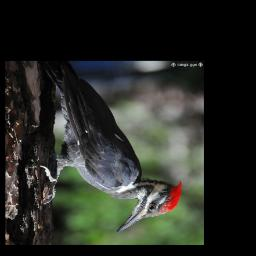Woodpecker: (40, 62, 184, 234)
